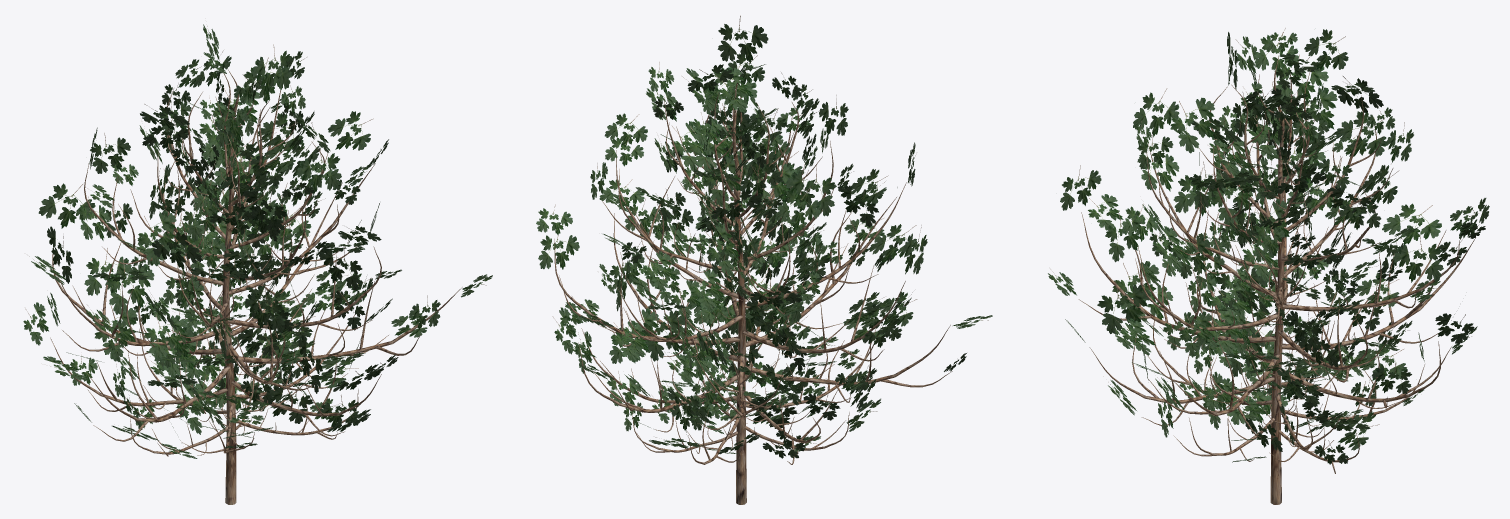
File: tree02.obj
3 renders of one model, left to right at view 1: azimuth 30°, elevation 25°; view 2: azimuth 150°, elevation 25°; view 3: azimuth 270°, elevation 25°, orthographic. The views are drawn at different scales.
Visible parts, largest first — view 1: leaves, tree; view 2: leaves, tree; view 3: leaves, tree.
Part boxes in pixels (x1,y1,x2,y2): leaves: (23,24,492,458); tree: (50,69,462,504); leaves: (536,15,992,458); tree: (554,71,952,504); leaves: (1048,28,1489,464); tree: (1078,56,1475,504).
Size of the model in its own units: 5.31 by 5.63 by 4.81.
